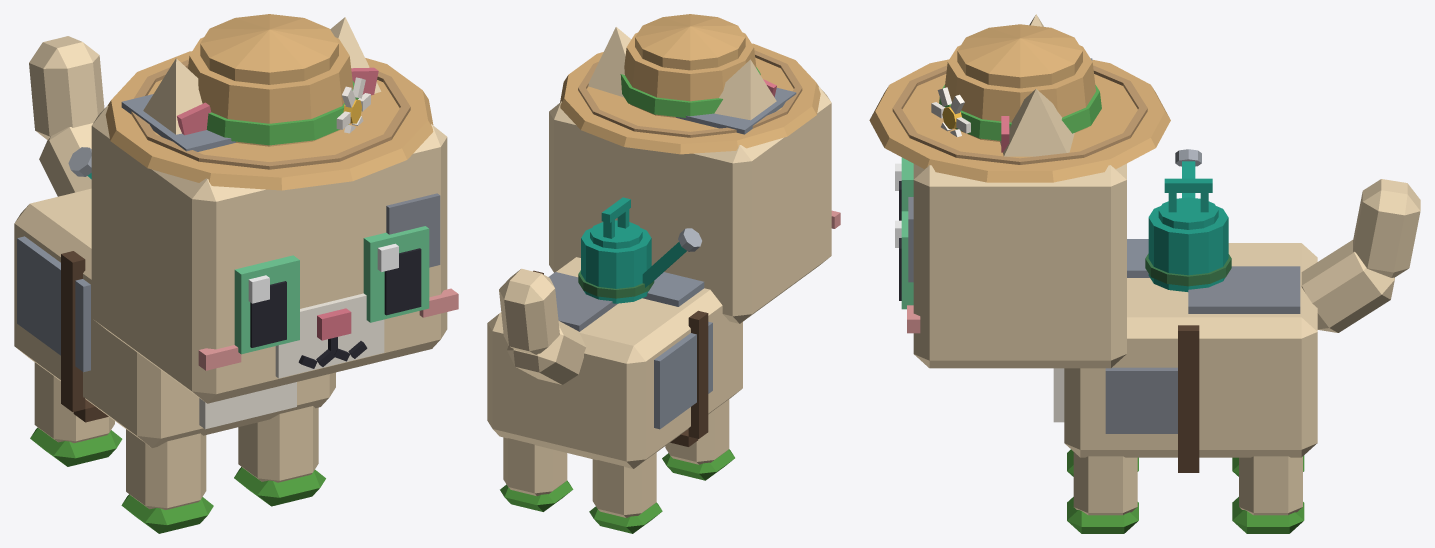
File: CatCafe_Cat_Gardener.fbx
The picture shows the model from 3 angles, left to right: view 1: azimuth 30°, elevation 25°; view 2: azimuth 150°, elevation 25°; view 3: azimuth 270°, elevation 25°; orthographic projection. The views are drawn at different scales.
Visible parts, largest first — view 1: CatCafe_Cat_Gardener_Head, CatCafe_Cat_Gardener_Prop, CatCafe_Cat_Gardener_Body, CatCafe_Cat_Gardener_Tail, CatCafe_Cat_Gardener_LegF2, CatCafe_Cat_Gardener_LegF1, CatCafe_Cat_Gardener_Eye2, CatCafe_Cat_Gardener_Eye1, CatCafe_Cat_Gardener_LegB2, CatCafe_Cat_Gardener_Prop2, CatCafe_Cat_Gardener_EarR, CatCafe_Cat_Gardener_EarL; view 2: CatCafe_Cat_Gardener_Head, CatCafe_Cat_Gardener_Body, CatCafe_Cat_Gardener_Prop, CatCafe_Cat_Gardener_Prop2, CatCafe_Cat_Gardener_Tail, CatCafe_Cat_Gardener_LegB2, CatCafe_Cat_Gardener_LegB1, CatCafe_Cat_Gardener_LegF2, CatCafe_Cat_Gardener_EarR, CatCafe_Cat_Gardener_EarL; view 3: CatCafe_Cat_Gardener_Head, CatCafe_Cat_Gardener_Body, CatCafe_Cat_Gardener_Prop, CatCafe_Cat_Gardener_Prop2, CatCafe_Cat_Gardener_Tail, CatCafe_Cat_Gardener_LegF1, CatCafe_Cat_Gardener_LegB1, CatCafe_Cat_Gardener_EarL, CatCafe_Cat_Gardener_Eye1, CatCafe_Cat_Gardener_Eye2.
Boxes of the visible parts, x1,y1,x2,y2 form: CatCafe_Cat_Gardener_Head: (91, 94, 458, 403); CatCafe_Cat_Gardener_Prop: (105, 14, 433, 190); CatCafe_Cat_Gardener_Body: (14, 188, 335, 447); CatCafe_Cat_Gardener_Tail: (29, 36, 104, 196); CatCafe_Cat_Gardener_LegF2: (121, 429, 213, 533); CatCafe_Cat_Gardener_LegF1: (234, 406, 325, 506); CatCafe_Cat_Gardener_Eye2: (234, 255, 299, 354); CatCafe_Cat_Gardener_Eye1: (363, 226, 429, 322); CatCafe_Cat_Gardener_LegB2: (30, 362, 122, 466); CatCafe_Cat_Gardener_Prop2: (61, 147, 108, 422); CatCafe_Cat_Gardener_EarR: (143, 58, 211, 135); CatCafe_Cat_Gardener_EarL: (330, 17, 381, 95); CatCafe_Cat_Gardener_Head: (549, 87, 840, 323); CatCafe_Cat_Gardener_Body: (487, 257, 742, 468); CatCafe_Cat_Gardener_Prop: (560, 14, 820, 154); CatCafe_Cat_Gardener_Prop2: (533, 197, 708, 446); CatCafe_Cat_Gardener_Tail: (499, 268, 585, 384); CatCafe_Cat_Gardener_LegB2: (589, 452, 662, 533); CatCafe_Cat_Gardener_LegB1: (500, 437, 573, 511); CatCafe_Cat_Gardener_LegF2: (662, 399, 734, 480); CatCafe_Cat_Gardener_EarR: (714, 59, 776, 120); CatCafe_Cat_Gardener_EarL: (588, 27, 631, 97); CatCafe_Cat_Gardener_Head: (907, 58, 1126, 368); CatCafe_Cat_Gardener_Body: (1053, 239, 1317, 457); CatCafe_Cat_Gardener_Prop: (869, 24, 1170, 182); CatCafe_Cat_Gardener_Prop2: (1145, 149, 1231, 472); CatCafe_Cat_Gardener_Tail: (1301, 179, 1420, 332); CatCafe_Cat_Gardener_LegF1: (1067, 452, 1138, 533); CatCafe_Cat_Gardener_LegB1: (1232, 456, 1304, 533); CatCafe_Cat_Gardener_EarL: (1000, 89, 1074, 156); CatCafe_Cat_Gardener_Eye1: (895, 211, 913, 309); CatCafe_Cat_Gardener_Eye2: (895, 157, 913, 220).
Bounding box in the file's own units: 1.1 × 1.91 × 2.07.
1 material, 1 textured.
